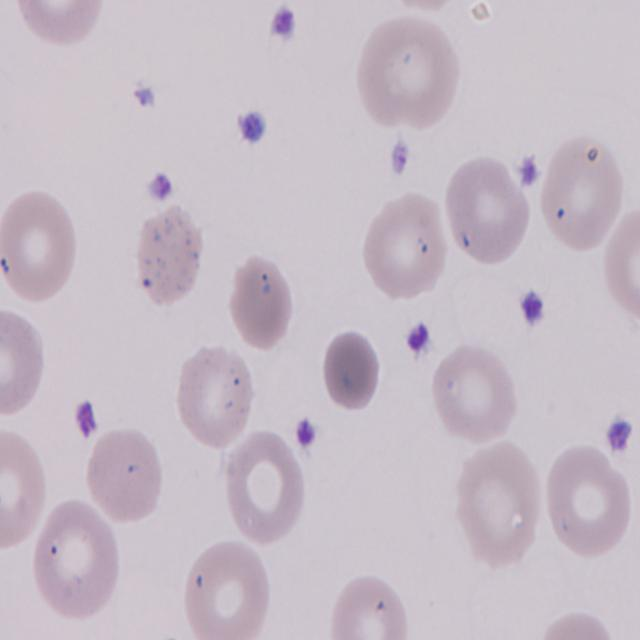RBC: (351, 8, 463, 132), (452, 442, 546, 570), (541, 442, 638, 560), (28, 499, 122, 618), (540, 128, 625, 258), (444, 155, 536, 268), (220, 430, 308, 548), (360, 189, 451, 303), (182, 534, 274, 640), (1, 190, 82, 306), (432, 341, 520, 446), (175, 340, 258, 450), (82, 426, 165, 530), (226, 254, 300, 356), (0, 424, 51, 546), (328, 573, 418, 640), (0, 302, 44, 420), (604, 200, 640, 330), (13, 0, 105, 48)
Spherocyte: (316, 326, 386, 416)
